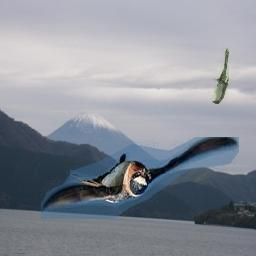Cuckoo: (213, 48, 230, 104)
Swallow: (41, 137, 239, 219)
